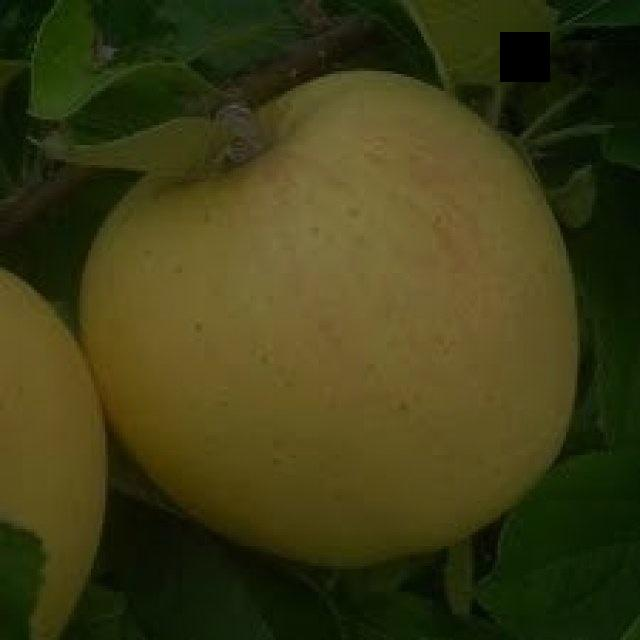green apple: (79, 63, 602, 578)
